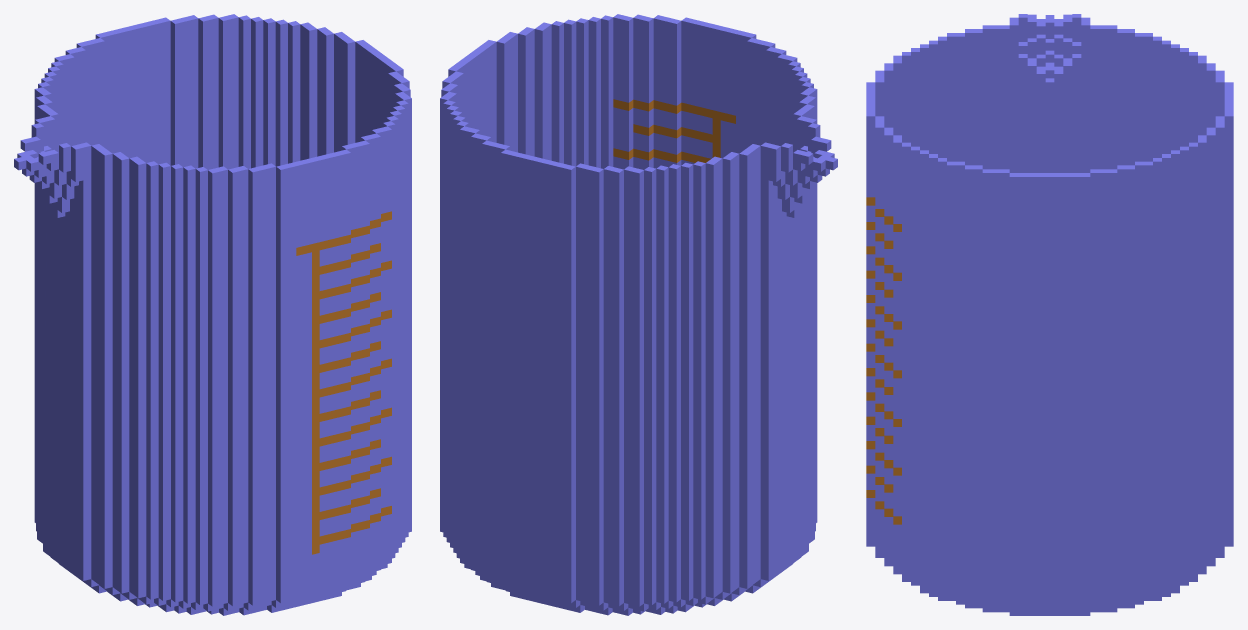
File: Beaker2-6-1.fbx
3 views of the same model, side by side, from view 1: azimuth 30°, elevation 25°; view 2: azimuth 150°, elevation 25°; view 3: azimuth 270°, elevation 25° (orthographic).
Visible parts, largest first — view 1: Beaker2-6-1.001, Beaker2-6-1; view 2: Beaker2-6-1.001, Beaker2-6-1; view 3: Beaker2-6-1.001, Beaker2-6-1.
Part boxes in pixels (x1,y1,x2,y2): Beaker2-6-1.001: (14, 14, 411, 615); Beaker2-6-1: (296, 211, 391, 554); Beaker2-6-1.001: (440, 14, 837, 615); Beaker2-6-1: (613, 99, 735, 162); Beaker2-6-1.001: (866, 14, 1233, 615); Beaker2-6-1: (866, 197, 901, 524).
Size of the model in its own units: 4.7 by 5.5 by 4.1.
